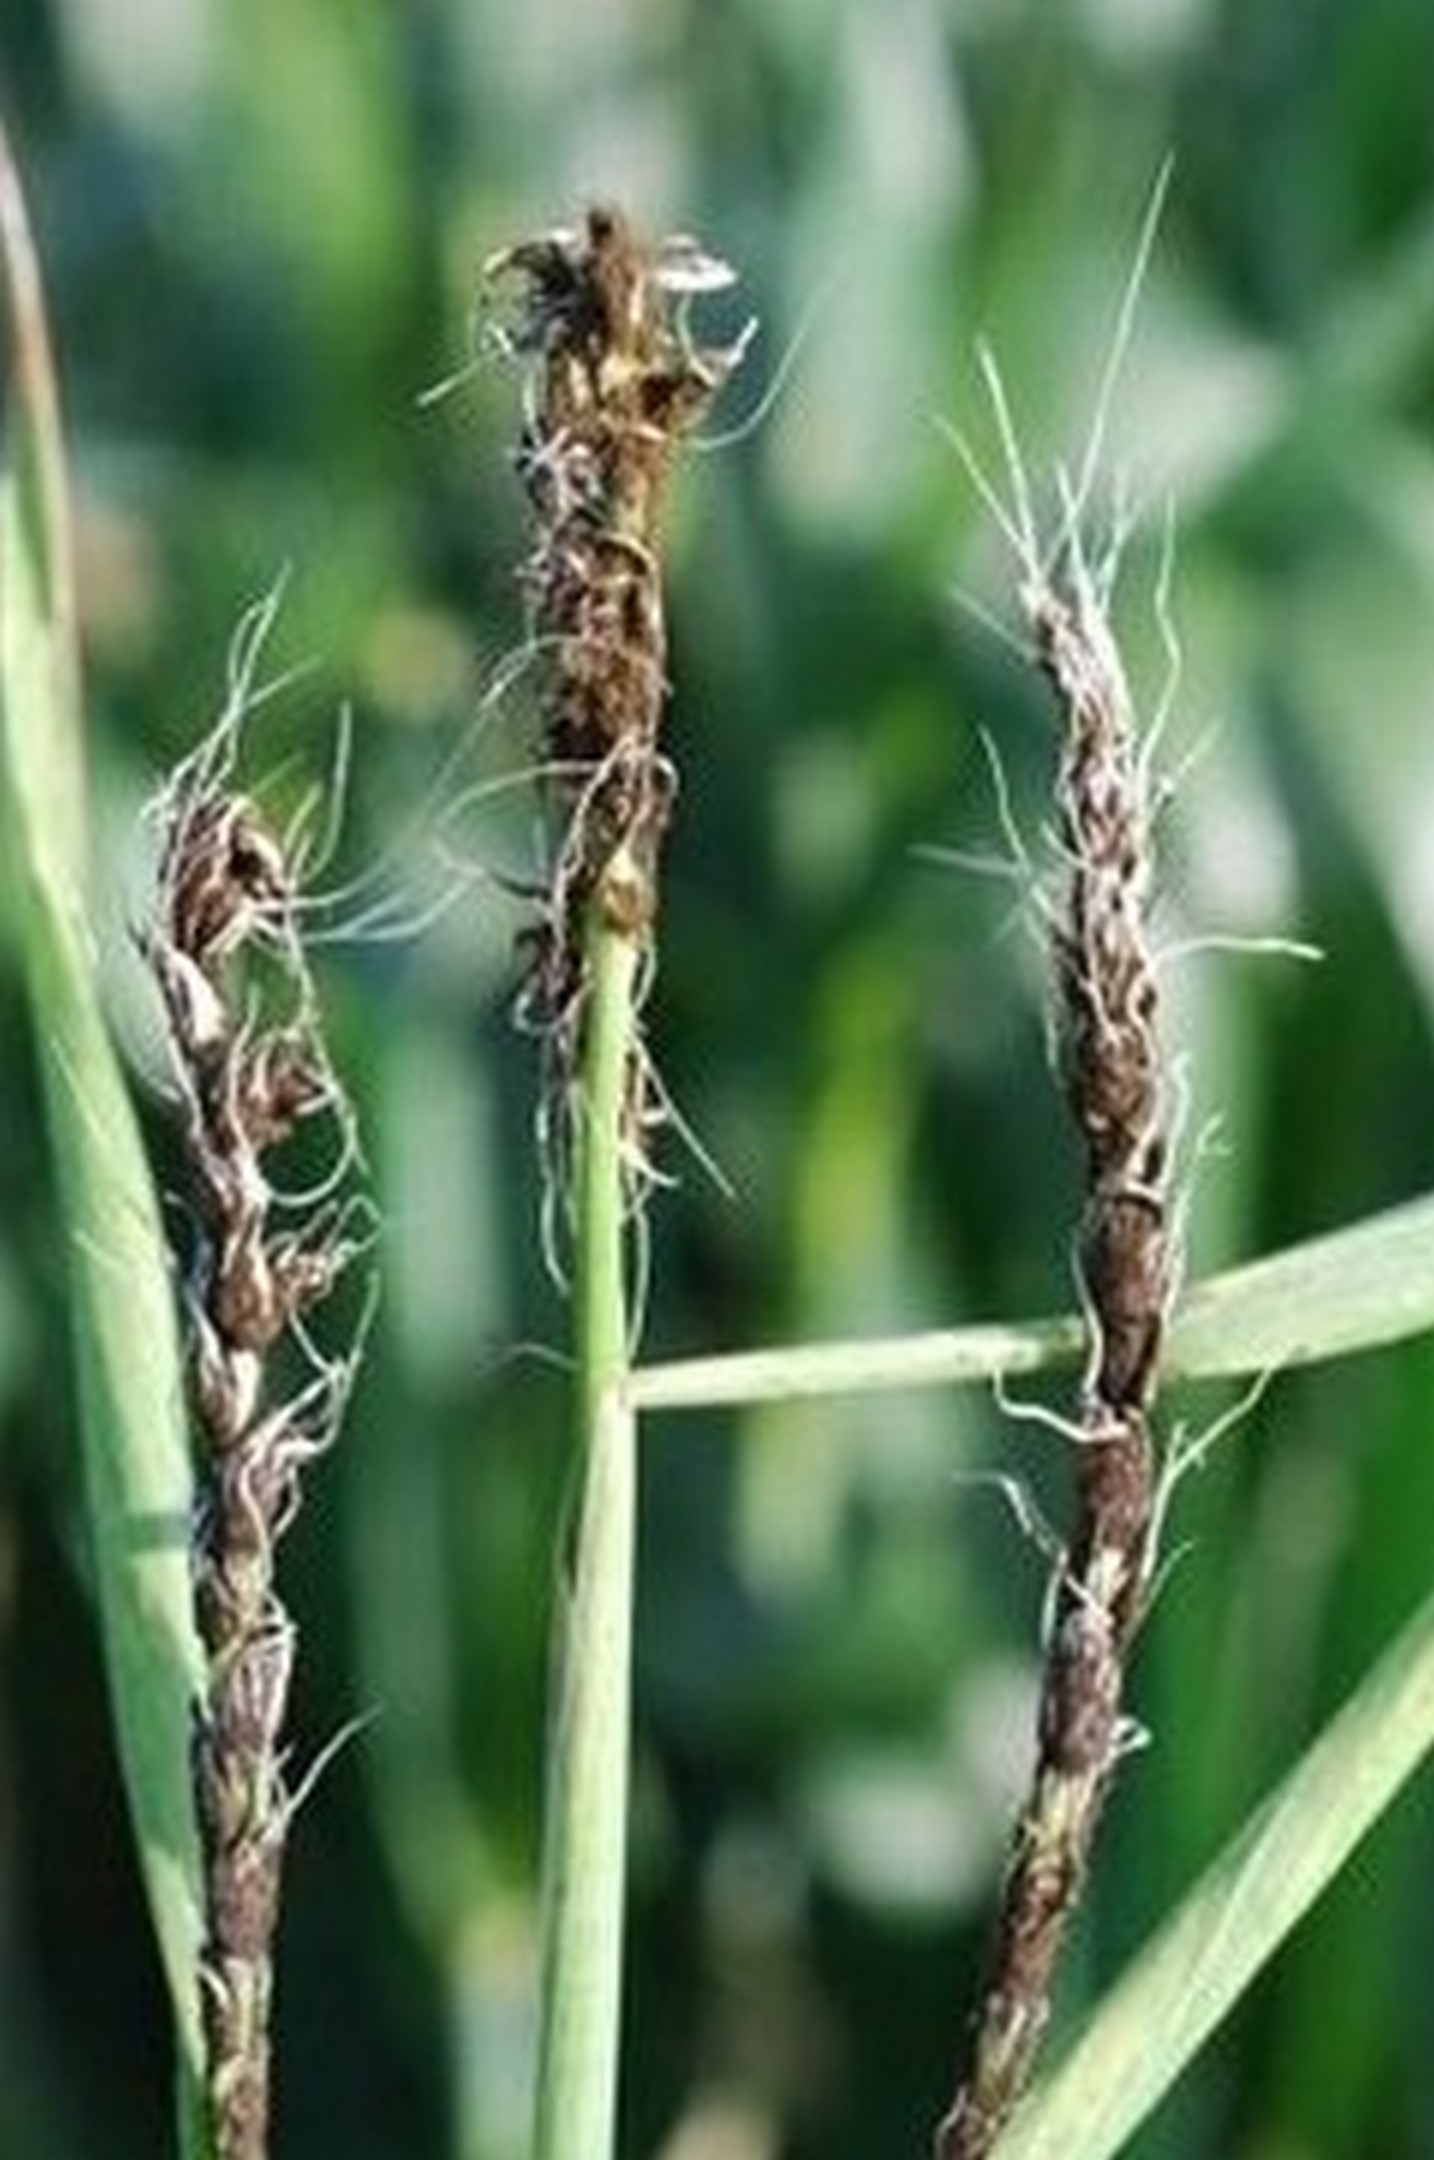Wheat Loose Smut: (944, 549, 1258, 1949), (94, 747, 458, 1955), (458, 179, 816, 1090)
